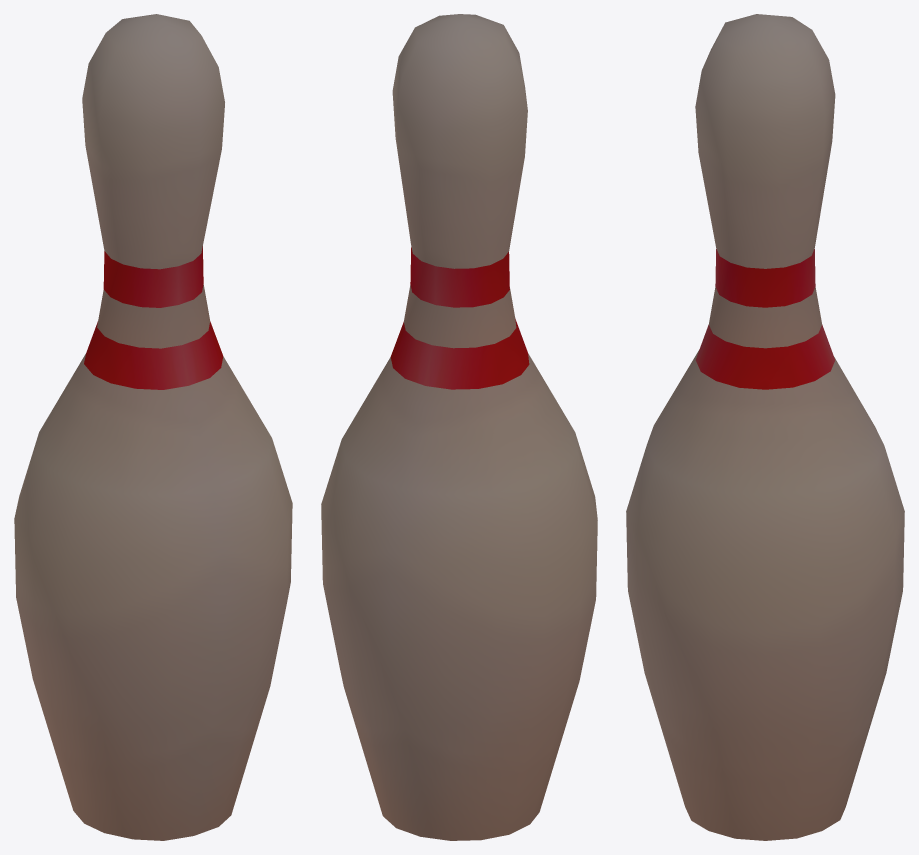
The model's file is bowling_pin.glb.
The picture shows the model from 3 angles, left to right: view 1: azimuth 30°, elevation 25°; view 2: azimuth 150°, elevation 25°; view 3: azimuth 270°, elevation 25°; orthographic projection.
Parts seen in each view (by area): view 1: bowling_pin; view 2: bowling_pin; view 3: bowling_pin.
Boxes of the visible parts, x1=… form: bowling_pin: x1=14, y1=14, x2=292, y2=840; bowling_pin: x1=321, y1=14, x2=597, y2=840; bowling_pin: x1=626, y1=14, x2=904, y2=840.
Bounding box in the file's own units: 0.5908 × 1.84 × 0.5908.
1 material, 1 textured.
